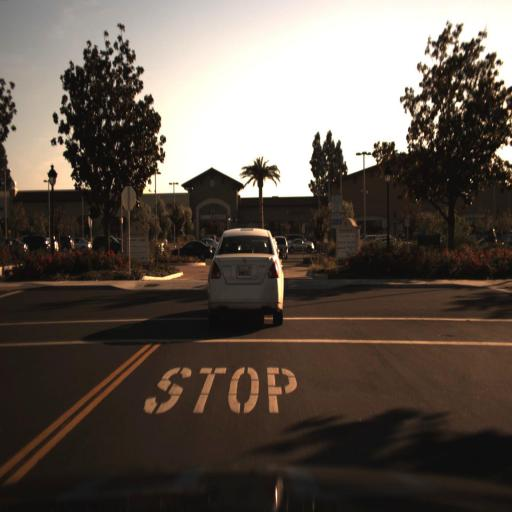car: (200, 224, 291, 332), (92, 231, 125, 258), (170, 240, 215, 259), (266, 234, 290, 264), (285, 236, 314, 256), (281, 232, 309, 250)
